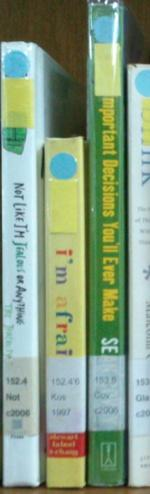call_number: (42, 357, 86, 432), (2, 357, 38, 438), (90, 355, 126, 429)
